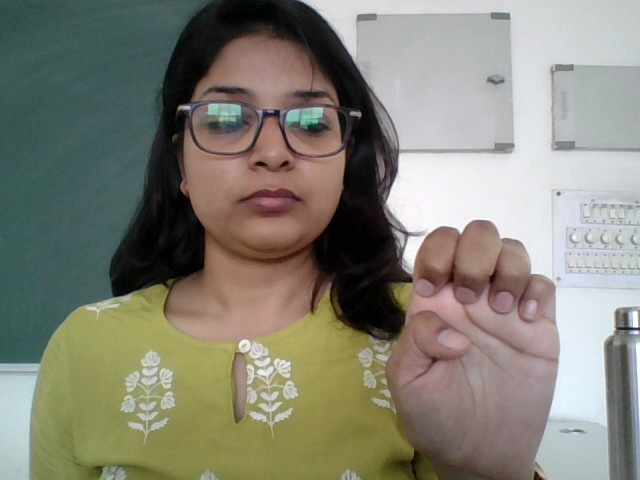E: (387, 221, 562, 466)
